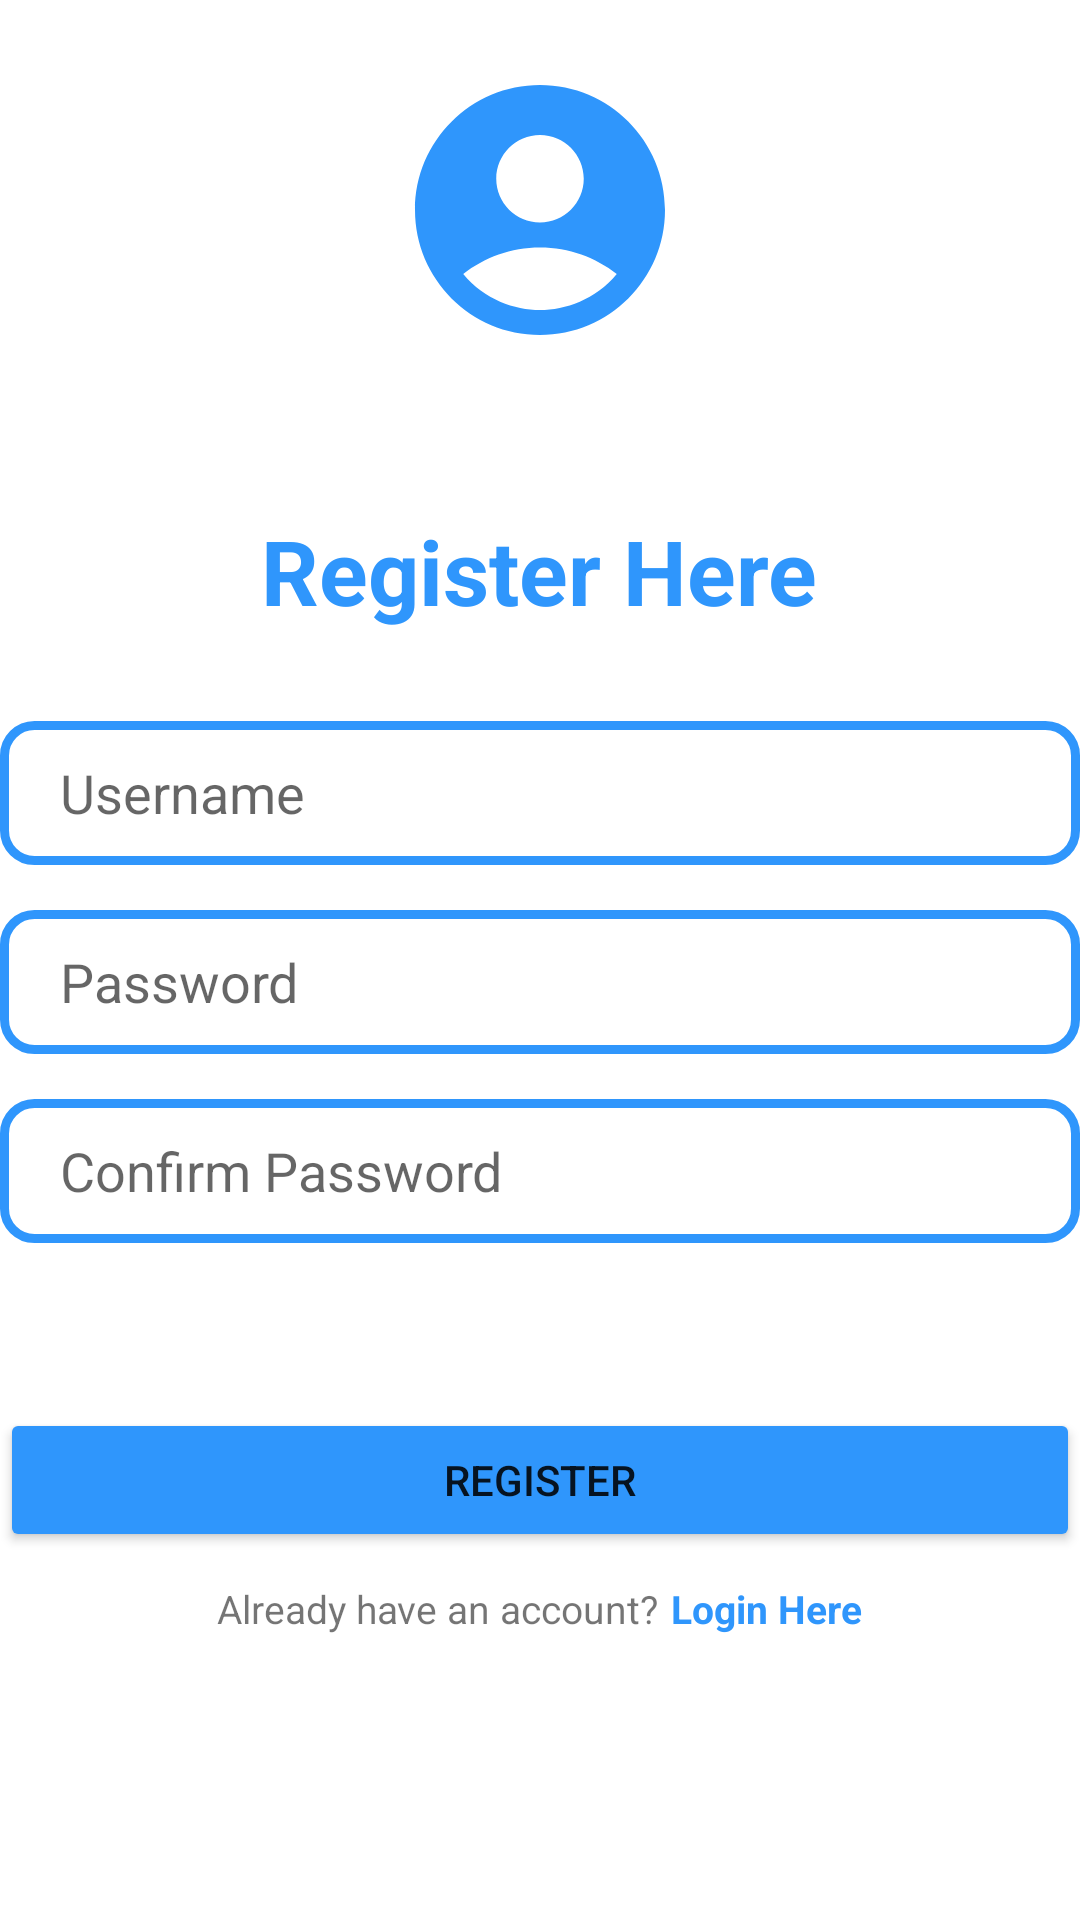

Screen size 1080 × 1920. Icon name, then its box in pixels as [x1, y1, x2, y2]:
account circle: [415, 85, 665, 335]
